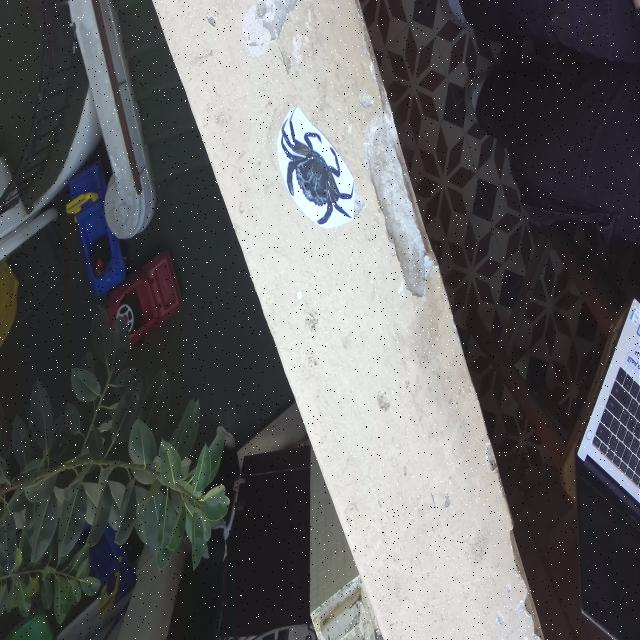European_Green_Crab: (267, 98, 364, 255)
